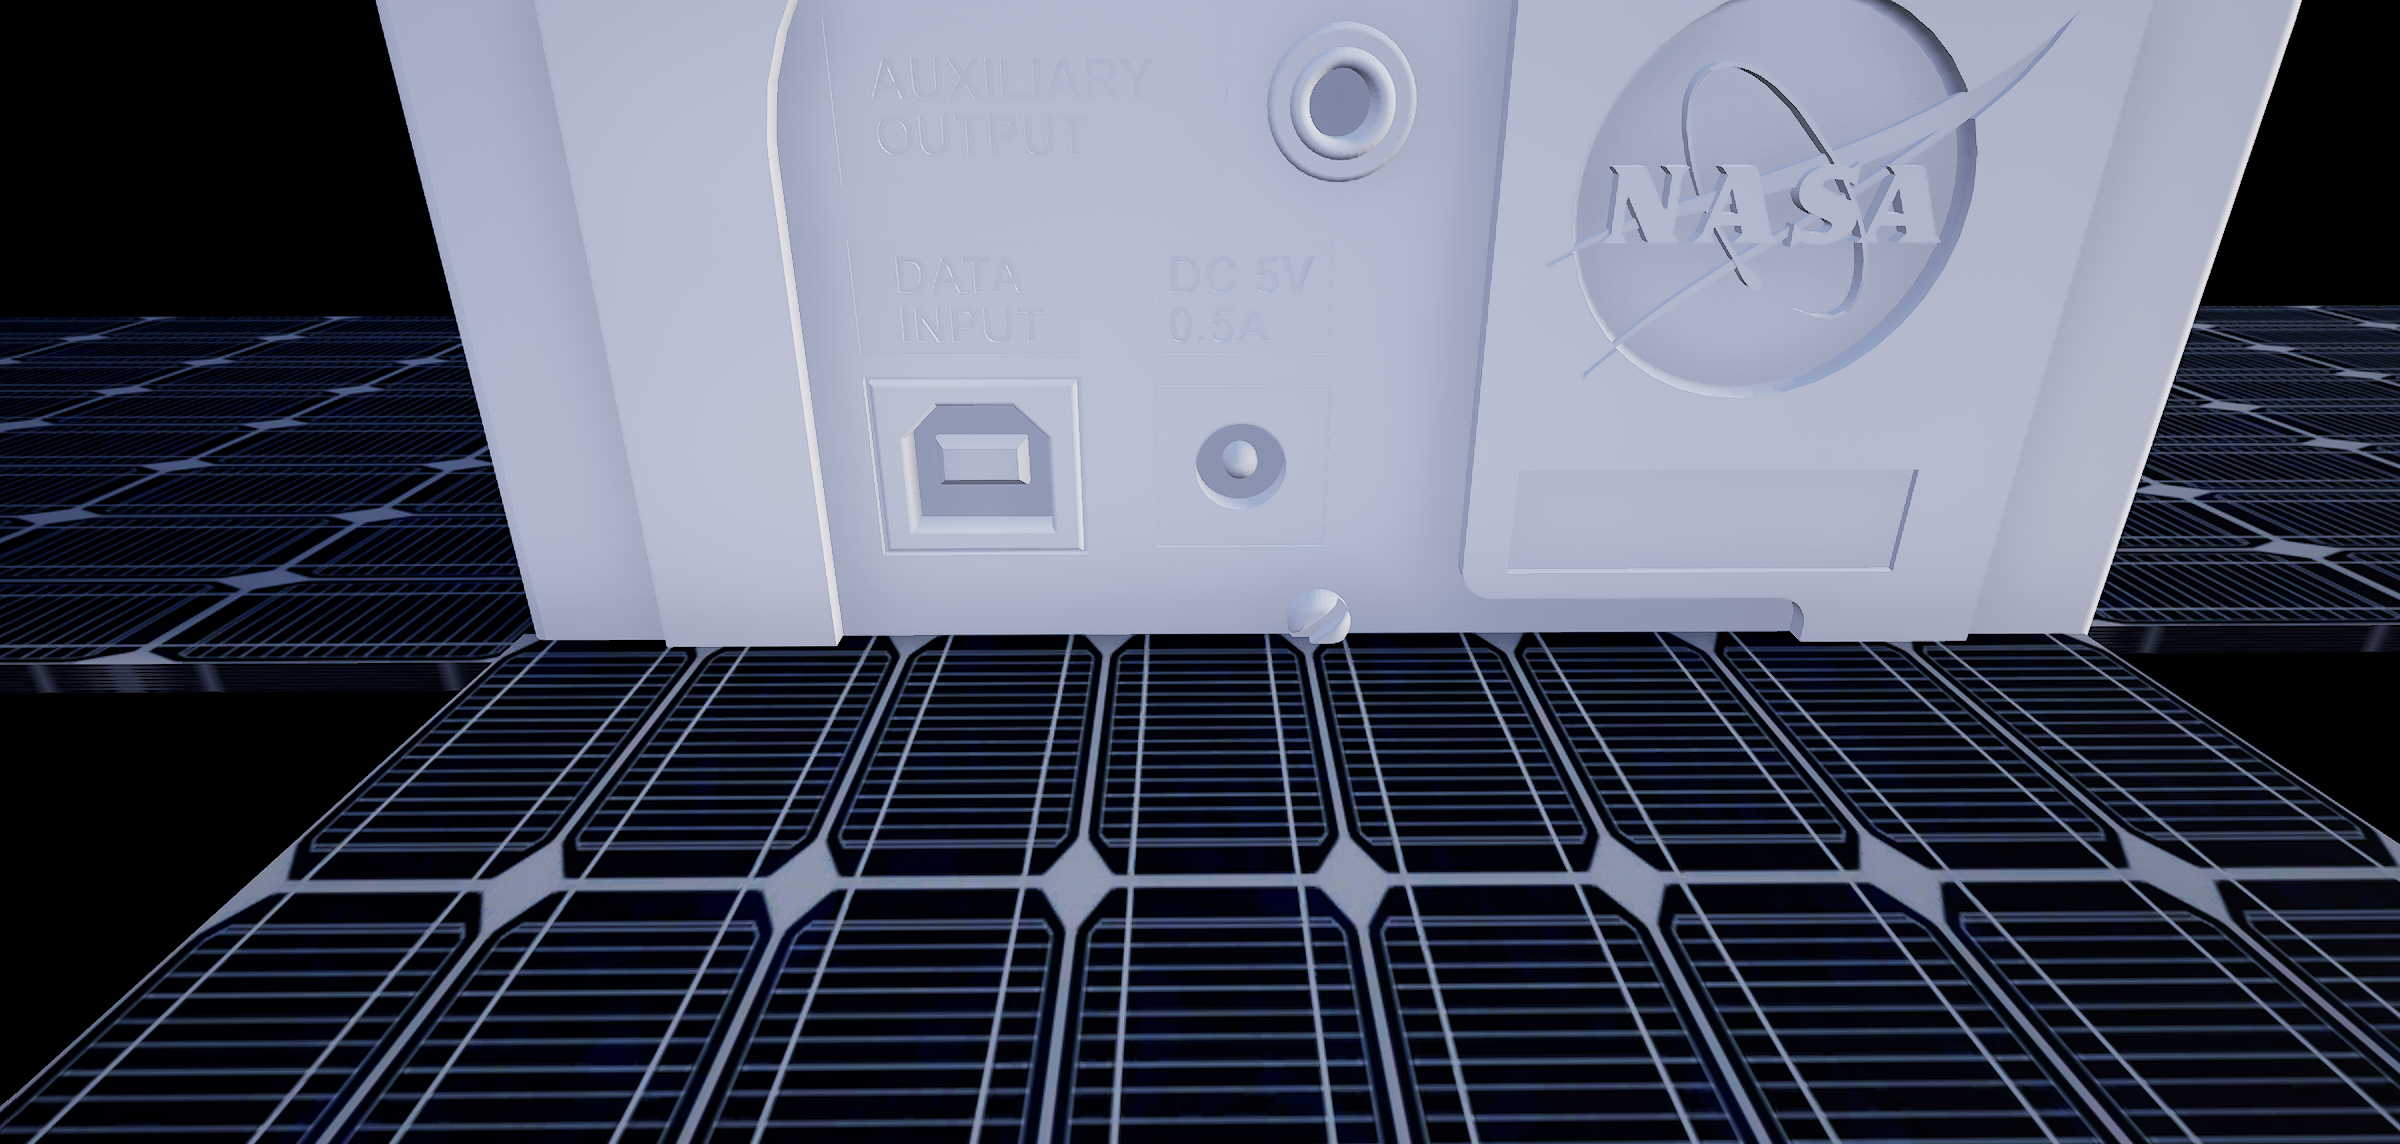aux: (1257, 23, 1436, 181)
dc: (1176, 417, 1303, 521)
usb: (888, 400, 1065, 544)
